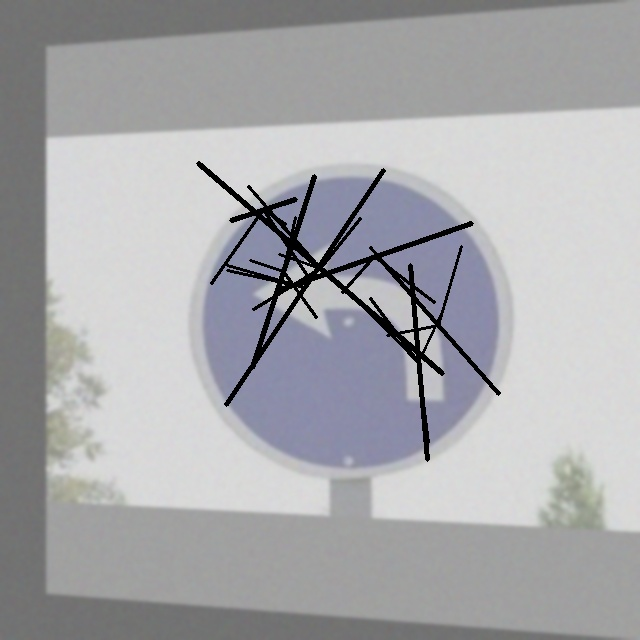Compulsory_Turn_Left_Ahead: (195, 154, 509, 483)
